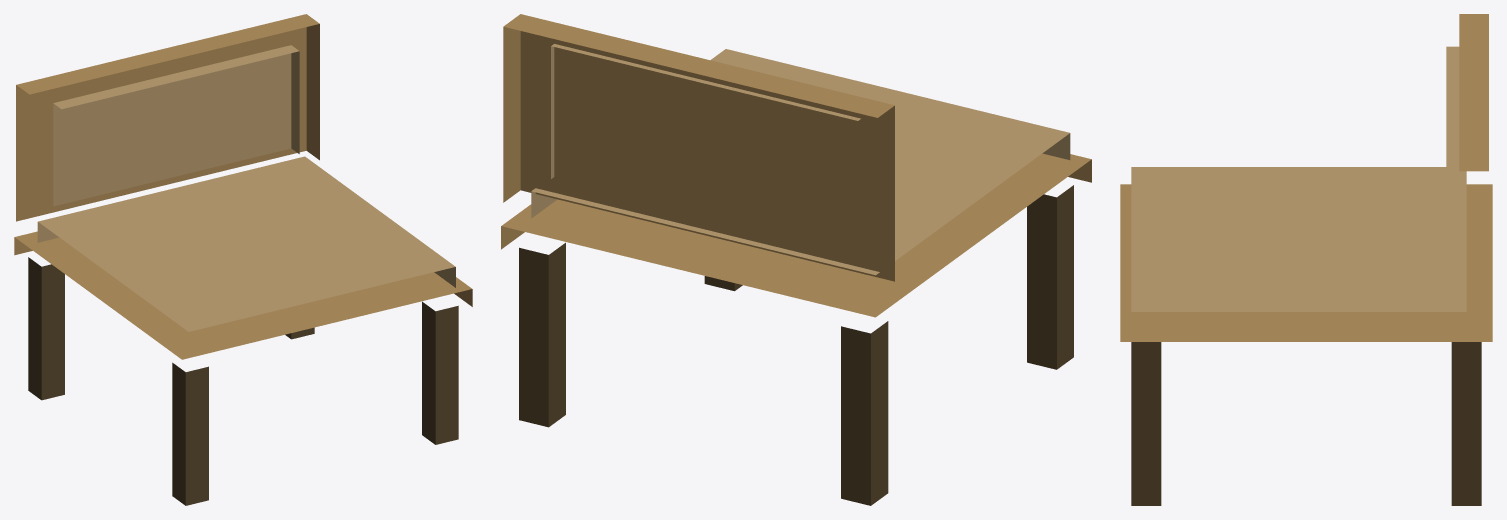
File: Chair-oak.glb
3 renders of one model, left to right at view 1: azimuth 30°, elevation 25°; view 2: azimuth 150°, elevation 25°; view 3: azimuth 270°, elevation 25°, orthographic. The views are drawn at different scales.
Visible parts, largest first — view 1: Chair; view 2: Chair; view 3: Chair.
Boxes of the visible parts, x1,y1,x2,y2 form: Chair: (14,14,472,505); Chair: (501,14,1091,505); Chair: (1120,14,1492,505).
Bounding box in the file's own units: 1 × 1 × 1.
